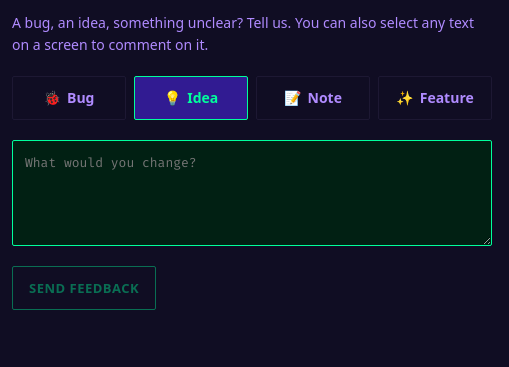
Test: SendFeedback › says why it was not sent
Step 1. Type "Again" into the text box named "Your comment" → coordinates (252, 193), box [12,140,492,246]
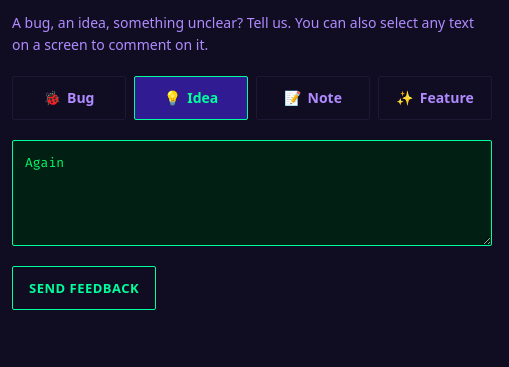
Step 2. Click the button "Send feedback" → coordinates (84, 288), box [12,266,156,310]
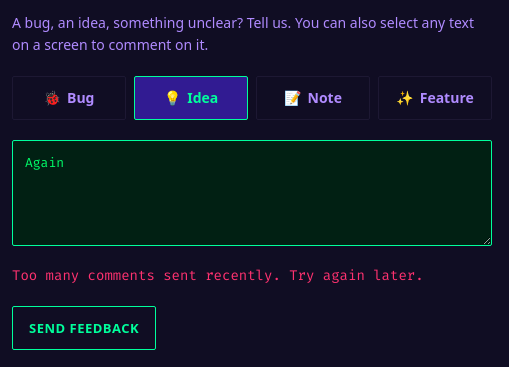
Check: the text "Too many comments sent recently. Try again later." is shown, box [12,266,492,286]
